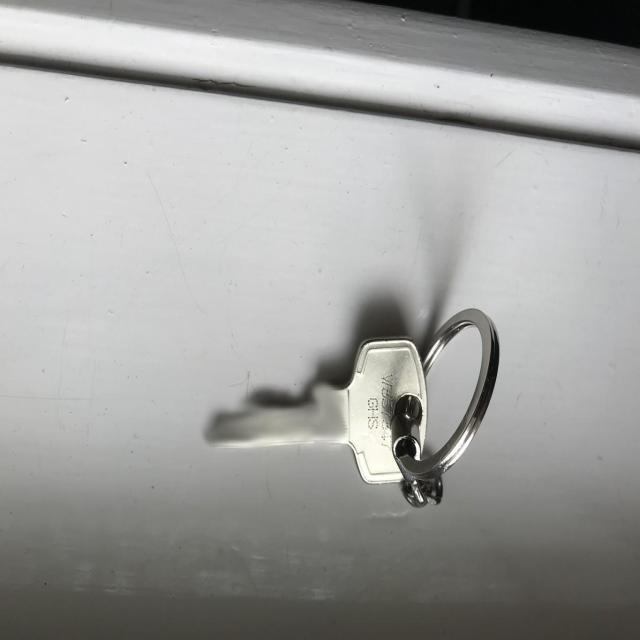Frontdoor keys: (203, 332, 429, 488)
